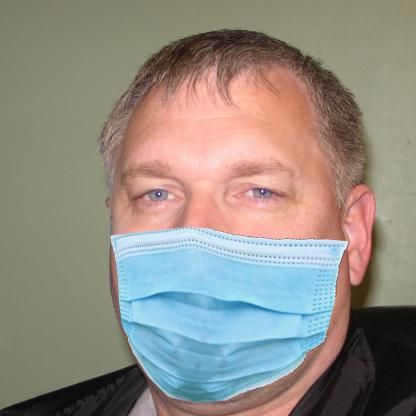Correctly_Masked: (105, 86, 348, 404)
